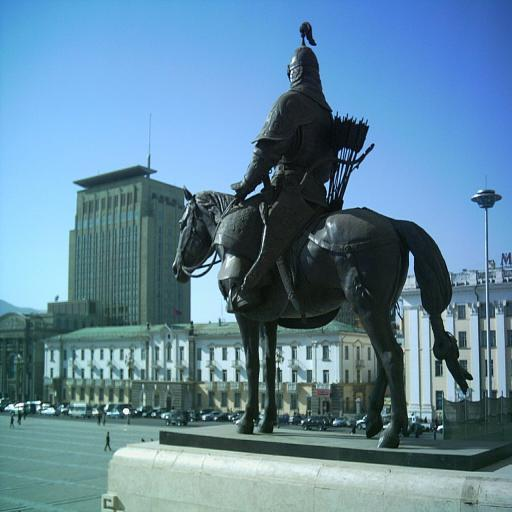horse: (171, 184, 473, 450)
